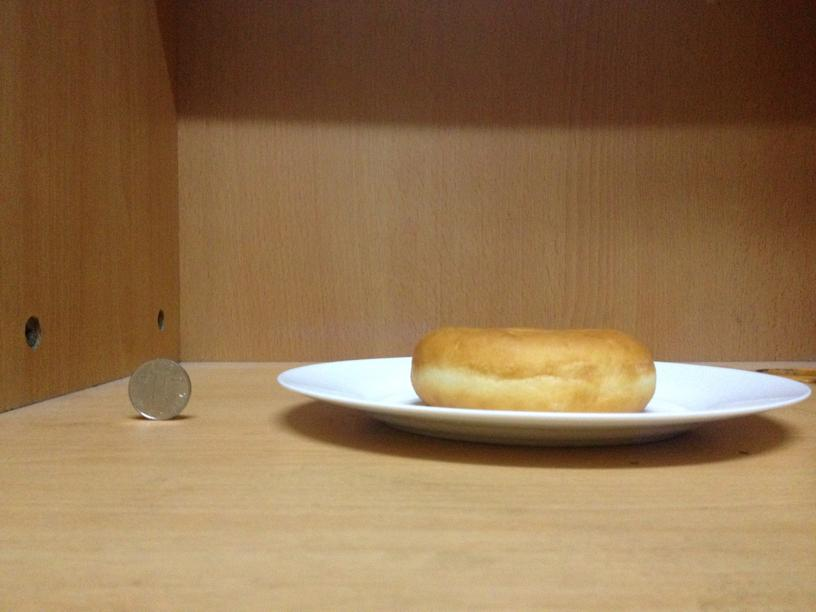coin: (128, 358, 191, 420)
doughnut: (406, 320, 656, 412)
